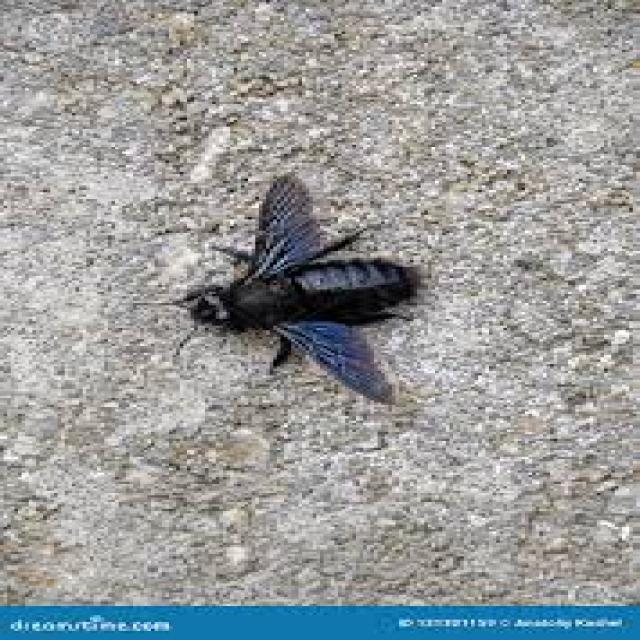Xylocopa: (178, 154, 438, 416)
